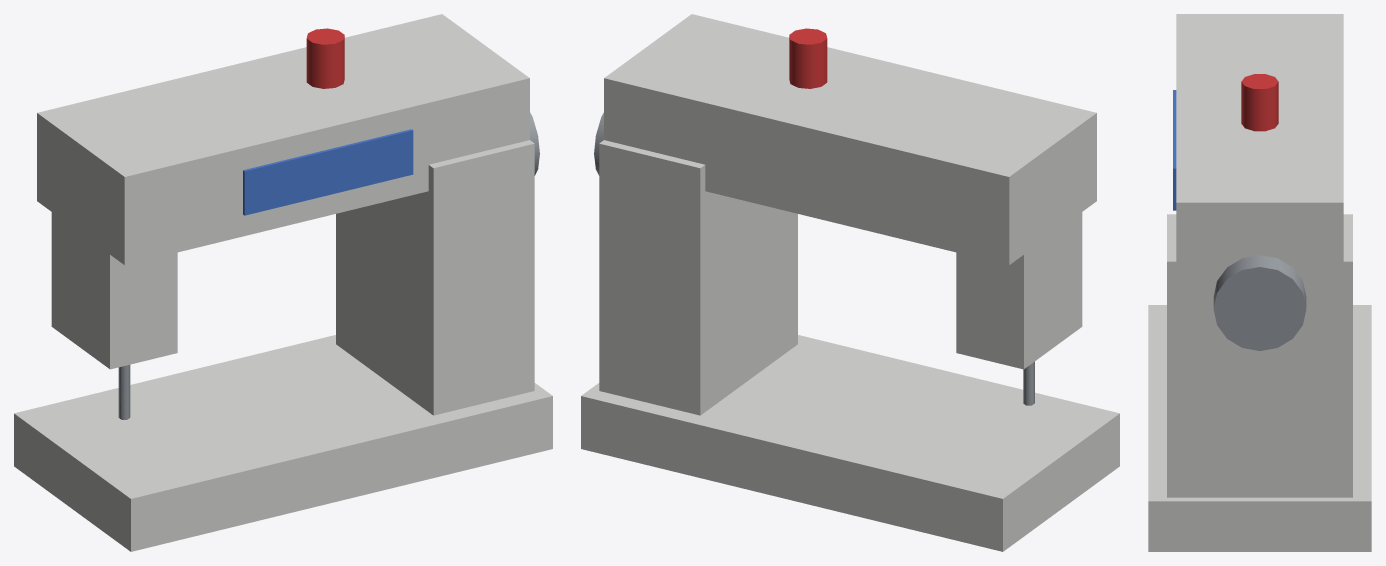
File: sewing_machine.glb
3 renders of one model, left to right at view 1: azimuth 30°, elevation 25°; view 2: azimuth 150°, elevation 25°; view 3: azimuth 270°, elevation 25°, orthographic. The views are drawn at different scales.
Parts seen in each view (by area): view 1: sewing_machine; view 2: sewing_machine; view 3: sewing_machine.
Boxes of the visible parts, left/top/right/bottom form: sewing_machine: left=14, top=14, right=552, bottom=551; sewing_machine: left=581, top=14, right=1119, bottom=551; sewing_machine: left=1148, top=14, right=1371, bottom=551.
Bounding box in the file's own units: 0.525 × 0.465 × 0.24.
